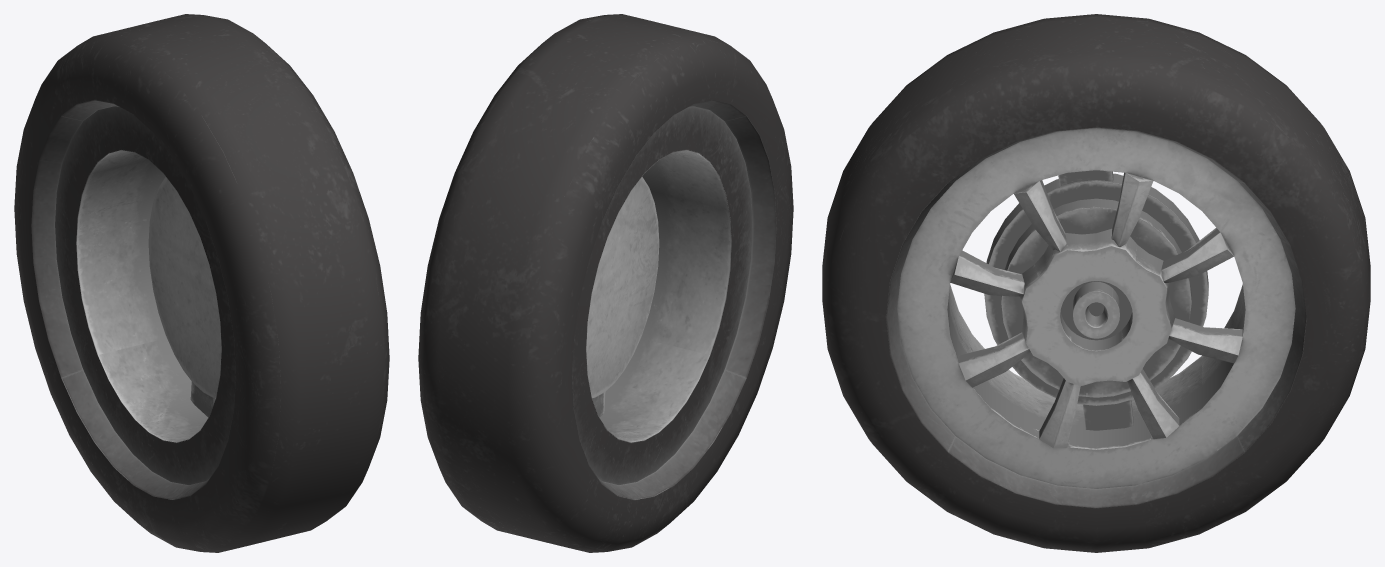
File: TiresLFront.fbx
3 views of the same model, side by side, from view 1: azimuth 30°, elevation 25°; view 2: azimuth 150°, elevation 25°; view 3: azimuth 270°, elevation 25° (orthographic). The views are drawn at different scales.
Visible parts, largest first — view 1: TiresLFront; view 2: TiresLFront; view 3: TiresLFront.
Part boxes in pixels (<box>): TiresLFront: <box>14,14,389,552</box>; TiresLFront: <box>418,14,793,552</box>; TiresLFront: <box>822,14,1370,552</box>.
Bounding box in the file's own units: 17.9 × 60.55 × 60.55.
